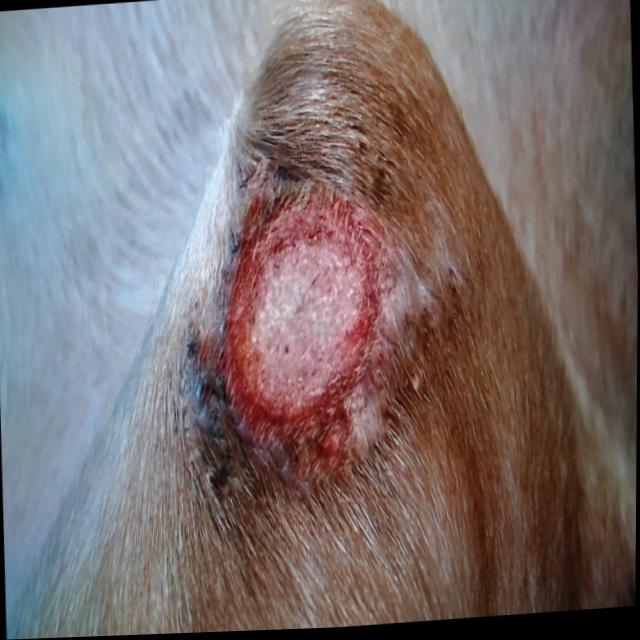ringworm: (221, 166, 407, 477)
